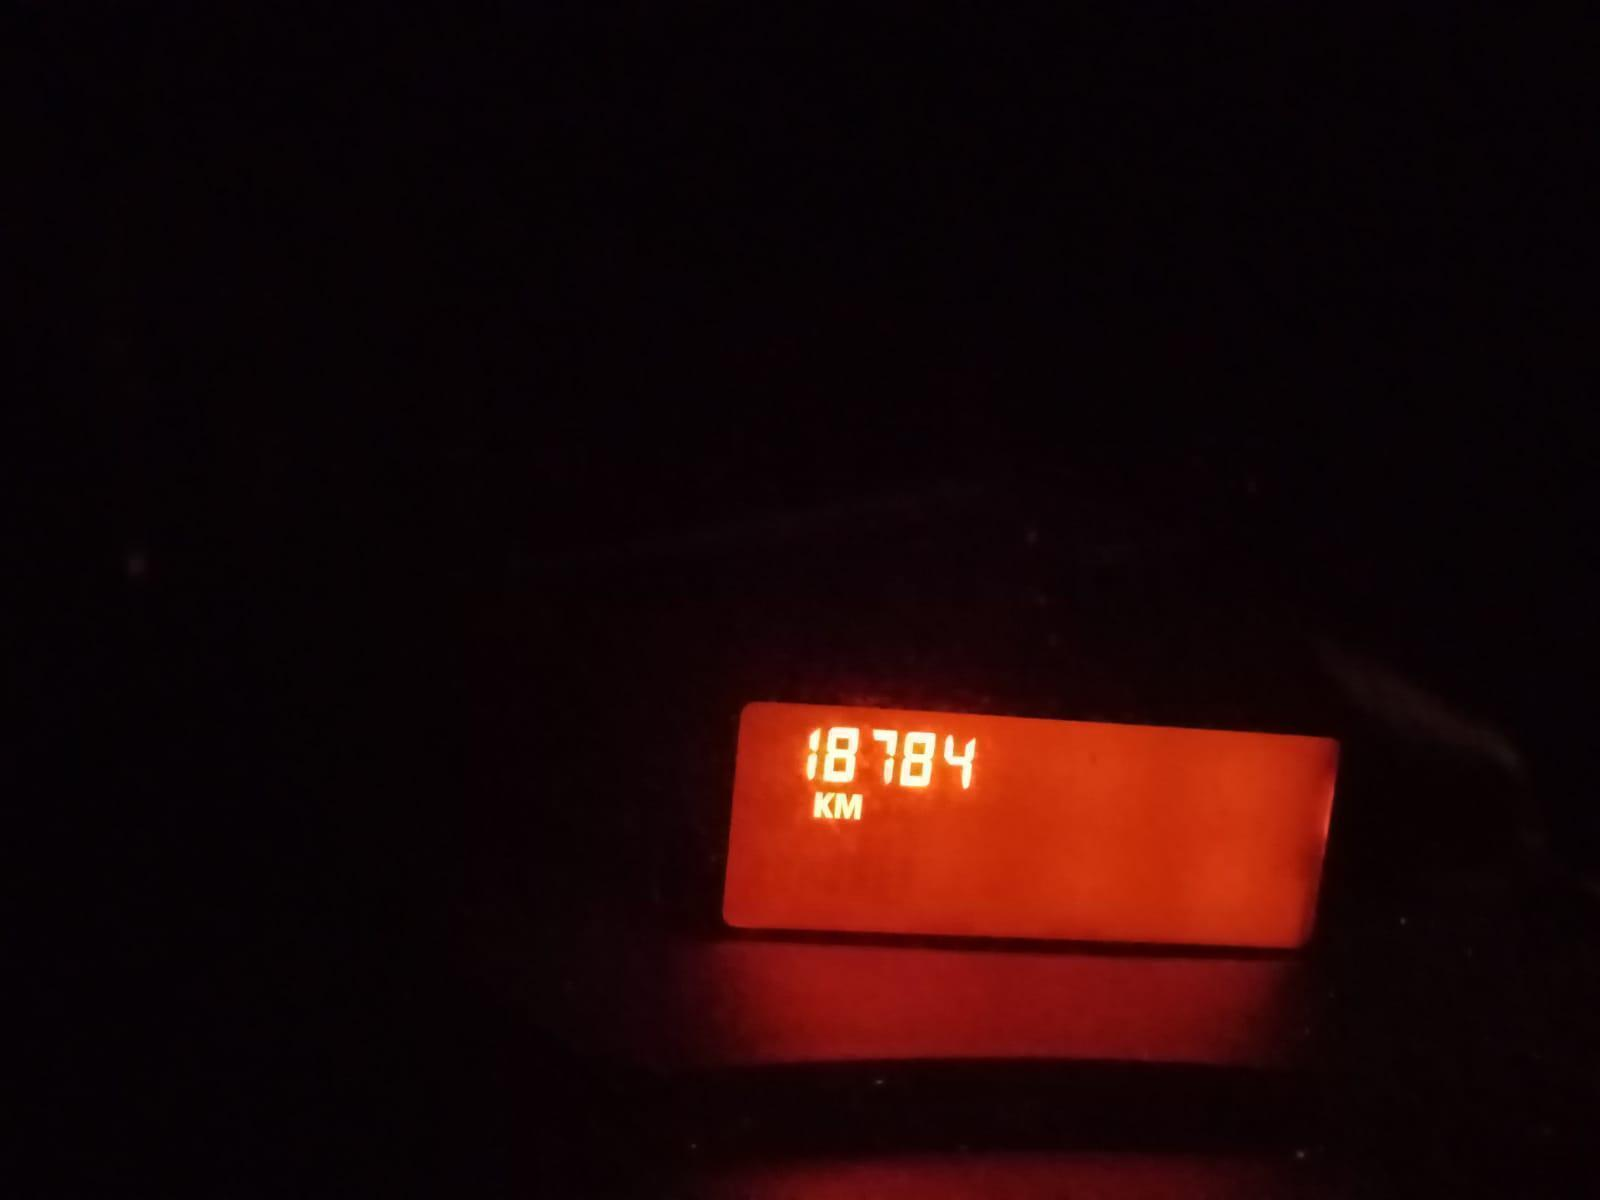1: (800, 718, 820, 784)
4: (942, 729, 980, 792)
7: (868, 724, 894, 788)
8: (821, 720, 860, 785), (900, 726, 939, 790)
X: (833, 790, 866, 822), (811, 788, 833, 821)
odometer: (698, 679, 1351, 950)
